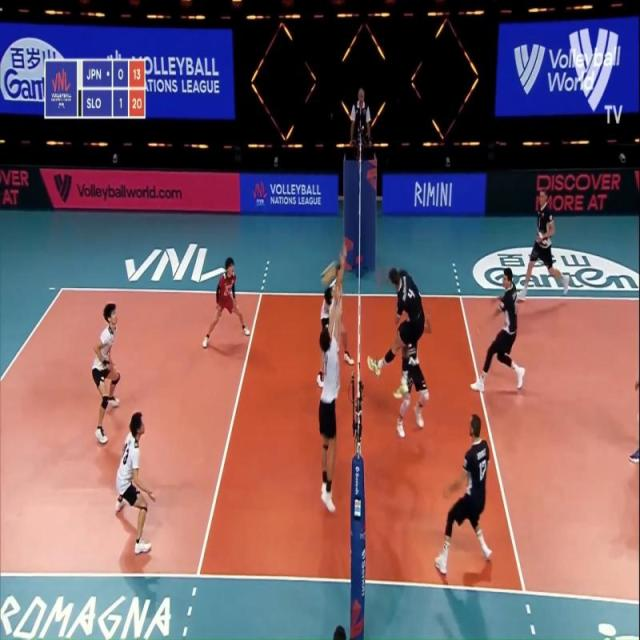volleyball: (320, 259, 338, 287)
